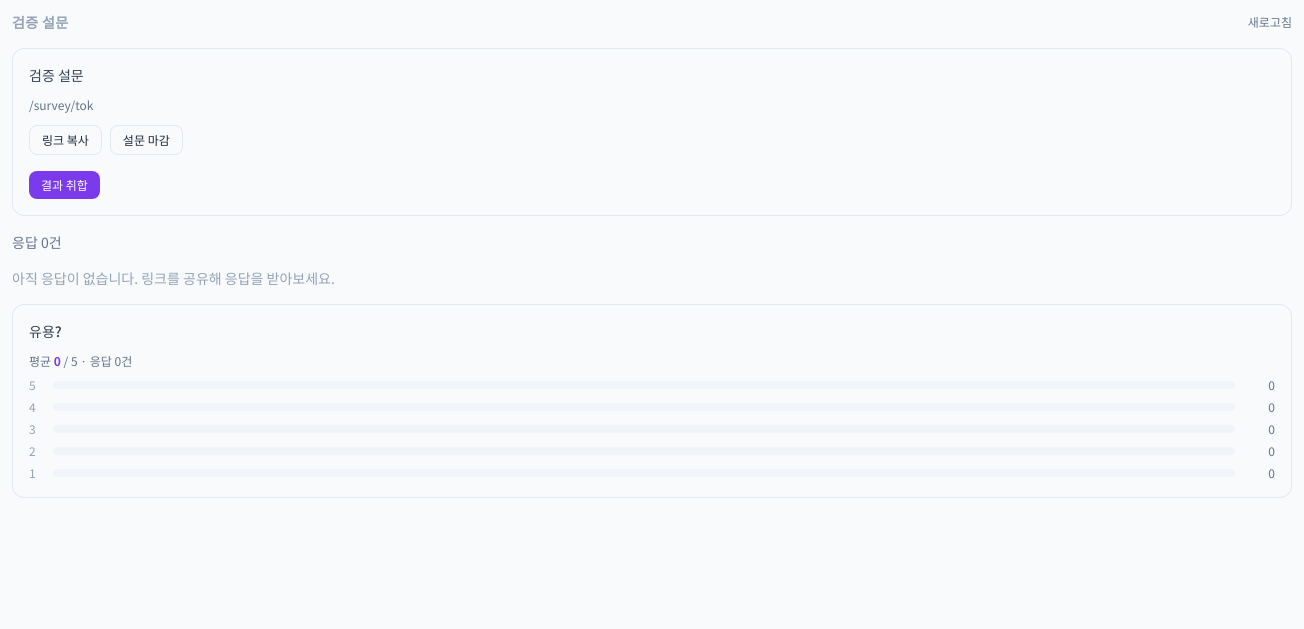
SurveyPanel — 결과 취합 › synthesizes and reports the path it wrote
The width and height of the screenshot is (1304, 629).
Click the button "결과 취합": (64, 185) [29,171,100,199]
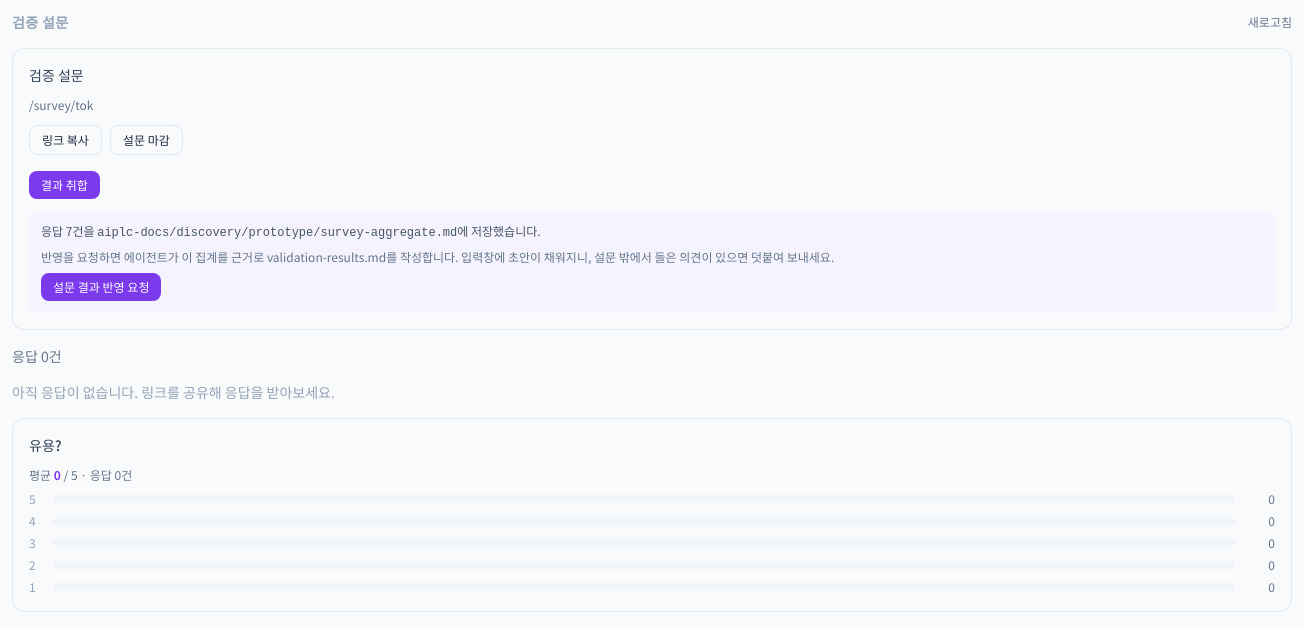
expect the text "aiplc-docs/discovery/prototype/survey-aggregate.md" is shown: met, box [97,226,457,240]
expect the text "validation-results.md" is shown: met, box [41,248,834,265]
